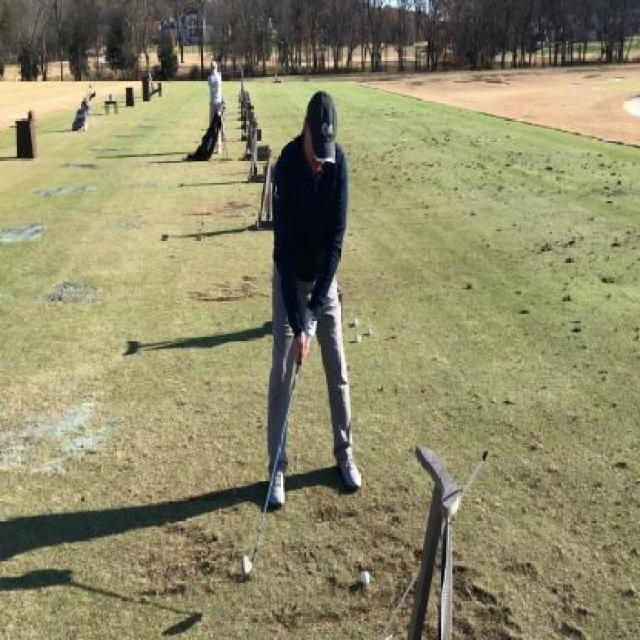club head: (240, 547, 257, 575)
